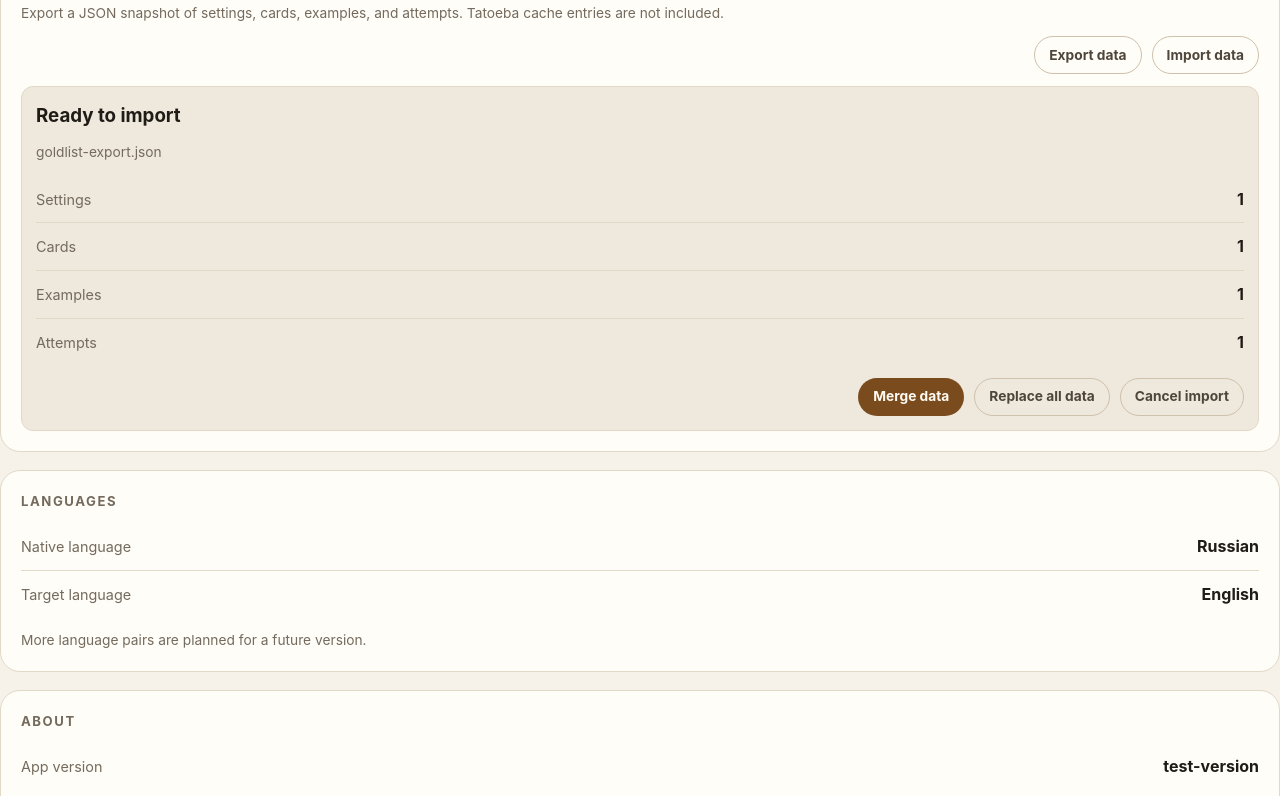
Test case: SettingsPage › previews and cancels an import without changing data
Earlier steps of the test are not shown.
(page scrolled)
Expected: the heading "Ready to import" is shown, [36,104,181,127]
Expected: the text "Cards" is shown, [36,236,76,259]
Click the button "Cancel import".
click(1182, 397)  # box [1120,378,1244,416]
(page scrolled)
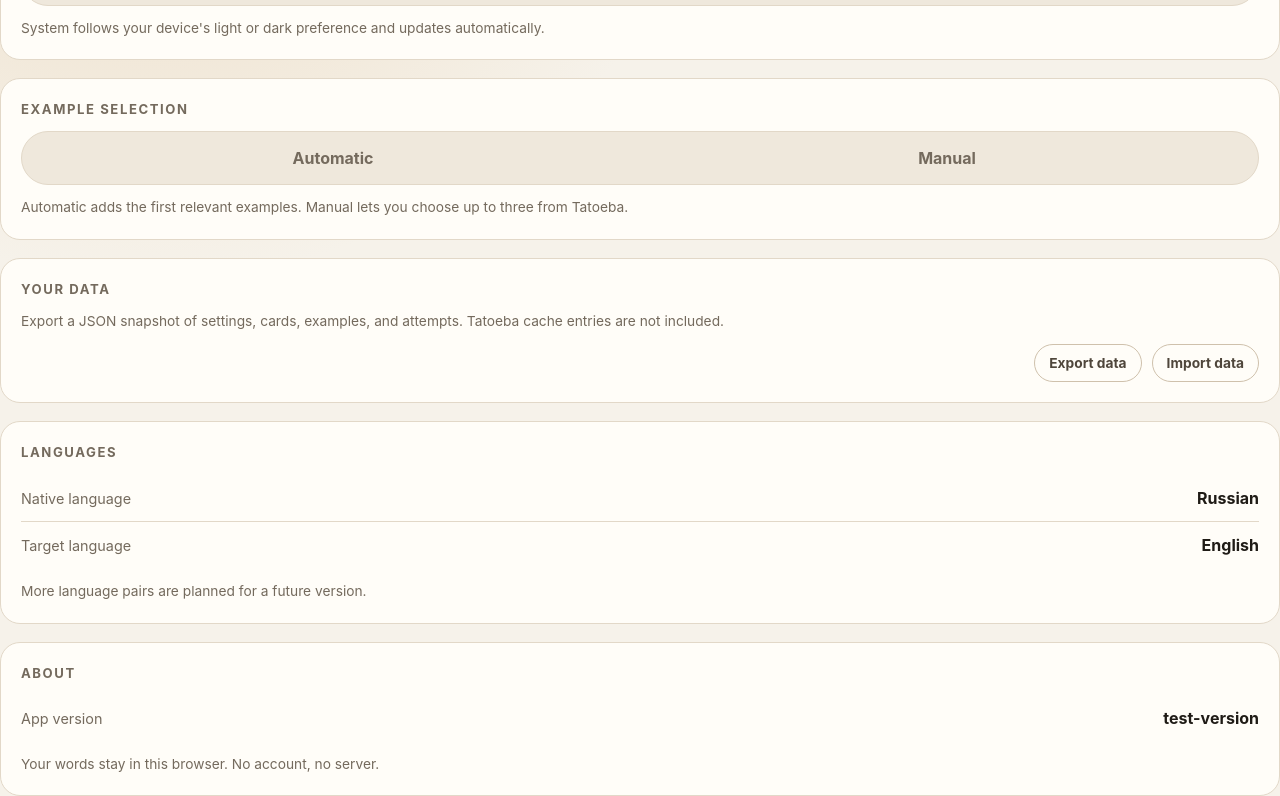
Expected: the heading "Ready to import" is gone
